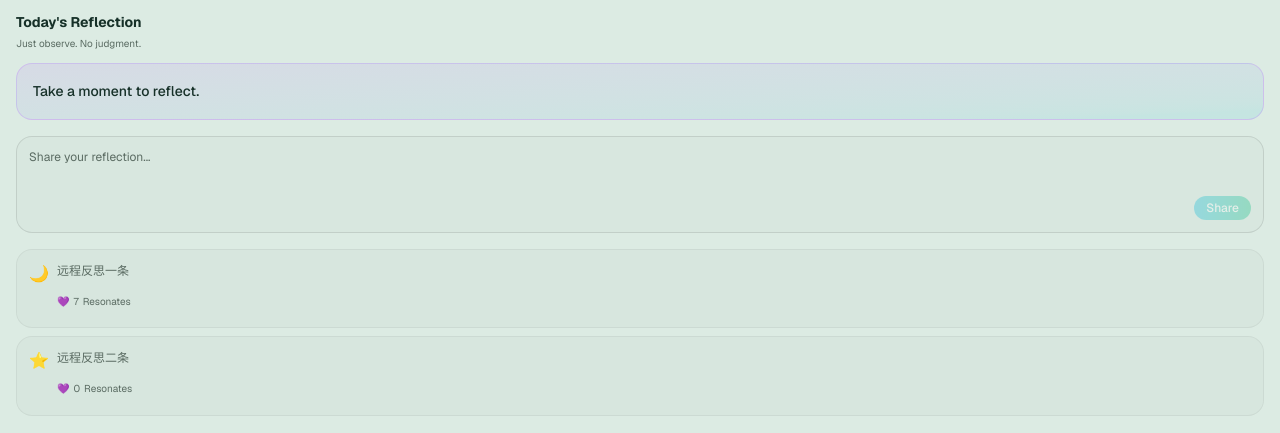
Scenario: DailyReflection 每日反思墙 › resonate 点击: 乐观 +1
Expected: the text "远程反思一条" is shown, [57, 263, 129, 279]
Click the button "💜 7 Resonates".
click(94, 301)  # box [57, 287, 131, 315]
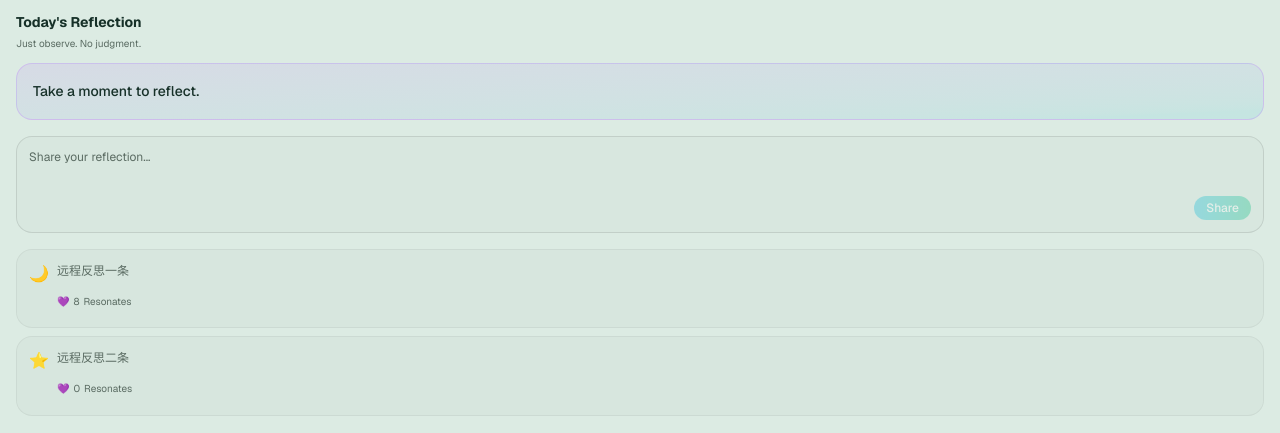
Expected: the text "8" is shown, [73, 294, 79, 309]
